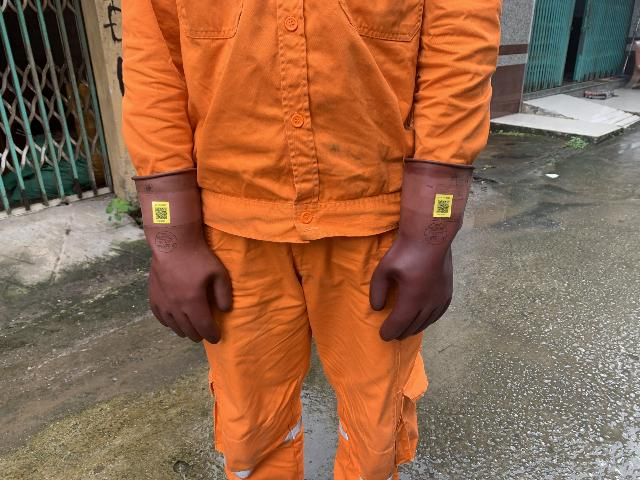gloves: (361, 139, 480, 349), (118, 147, 238, 349)
